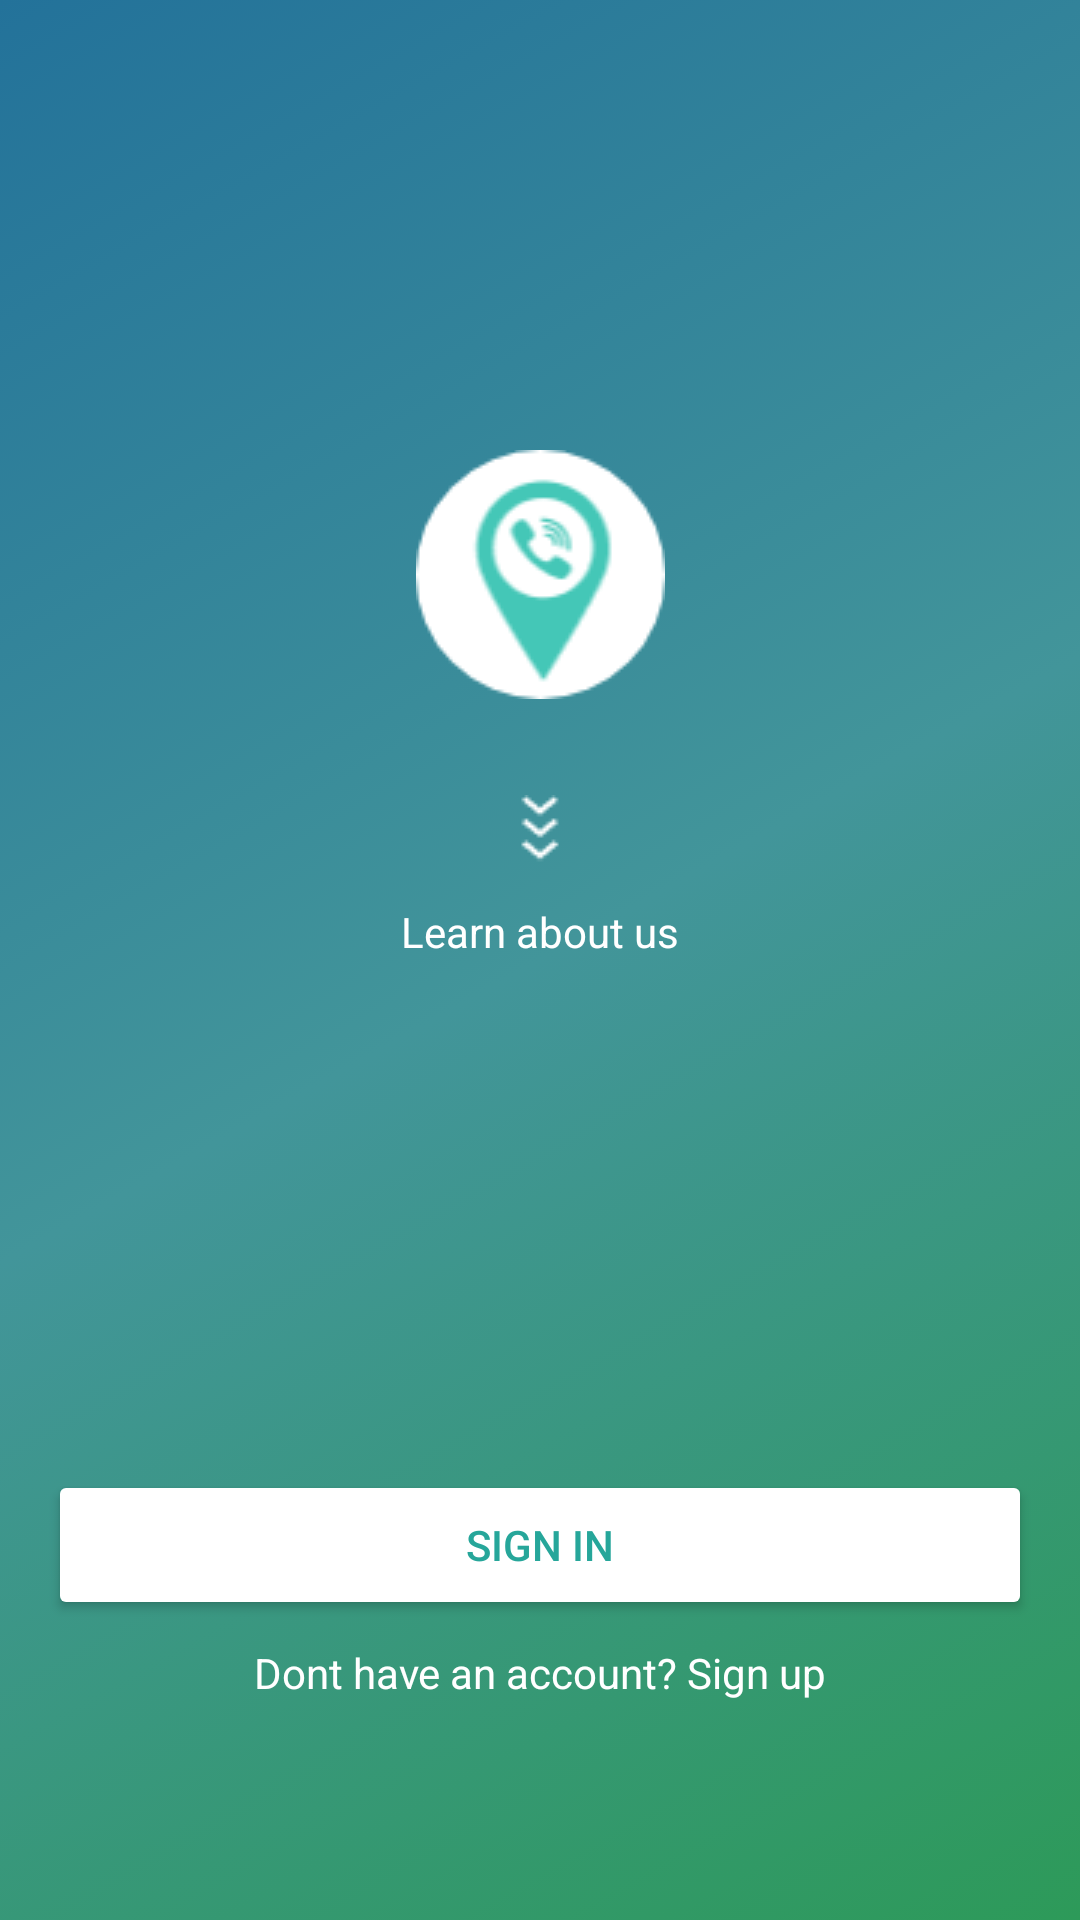

Named icons in this screenshot (1080px×1920px) and their bounding boxes, bbox=(x1, y1, x2, y2):
arroy down: bbox=(521, 795, 559, 860)
